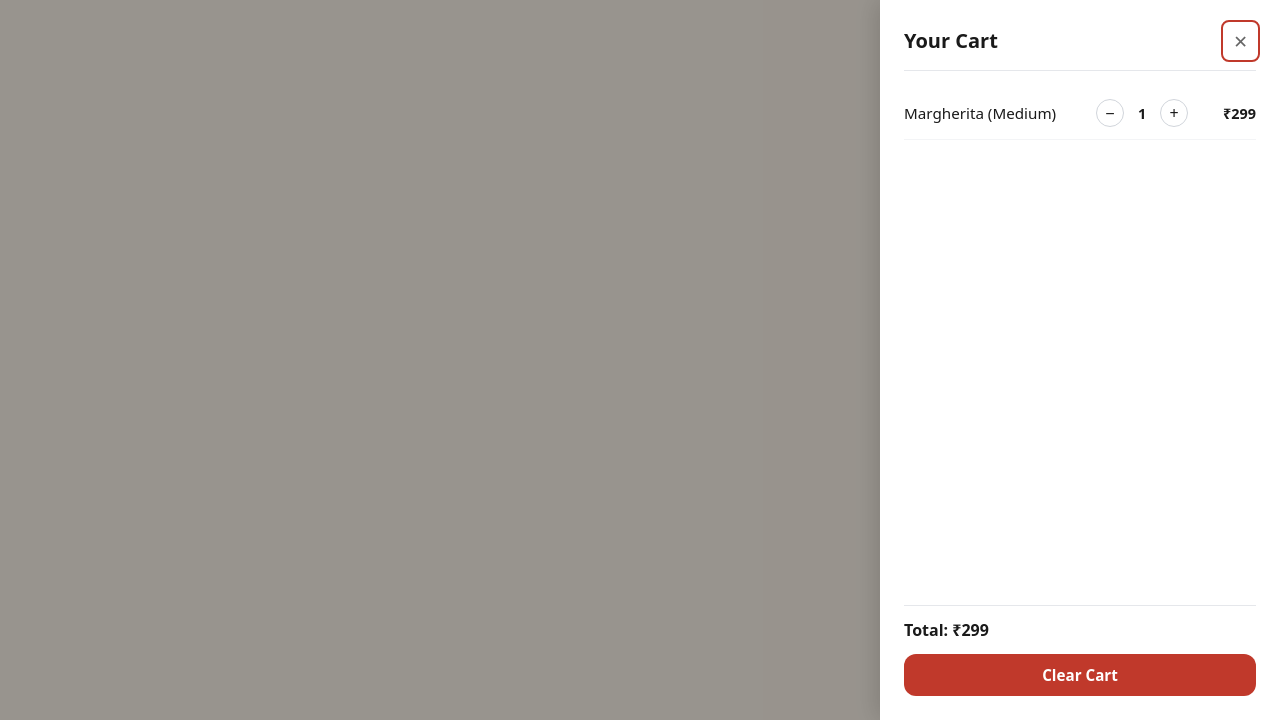
Scenario: CartPanel – Clear Cart › grand total resets to ₹0 after clearing the cart
Click the button "Clear Cart": coordinates (1080, 675) x1=904 y1=654 x2=1256 y2=696
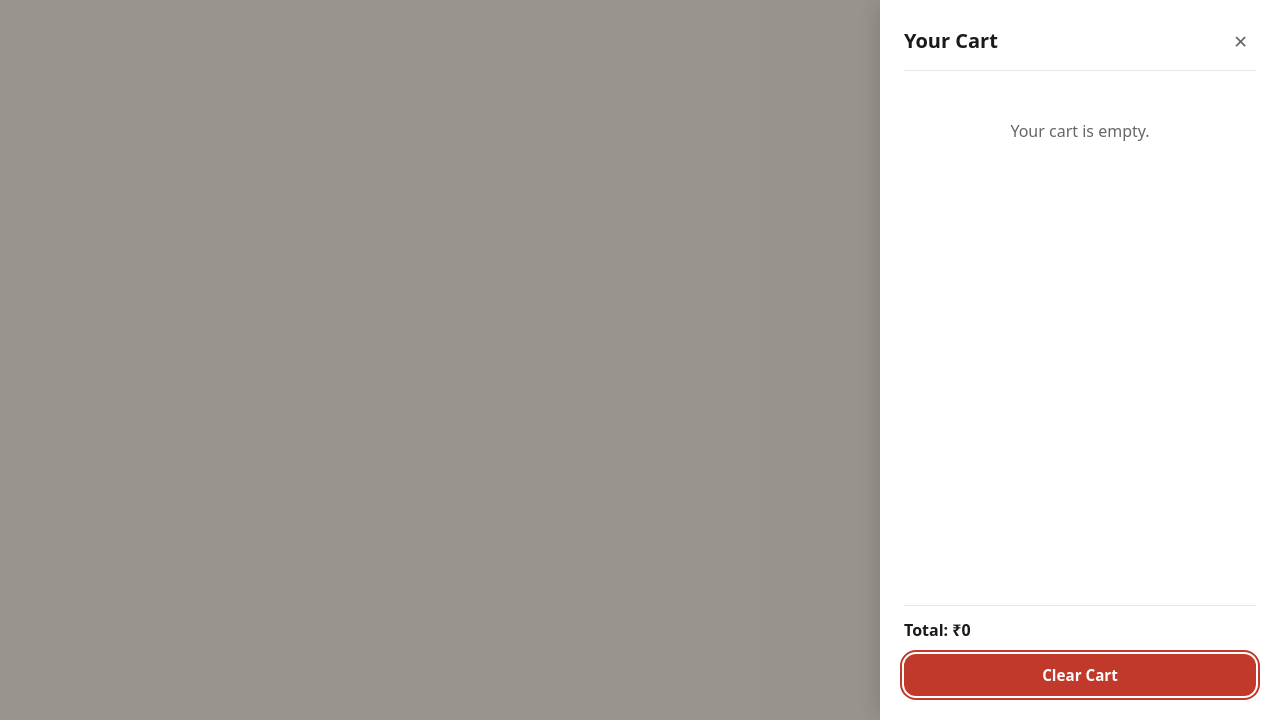
Check: the text "Total: ₹0" is shown, box x1=904 y1=619 x2=971 y2=641
